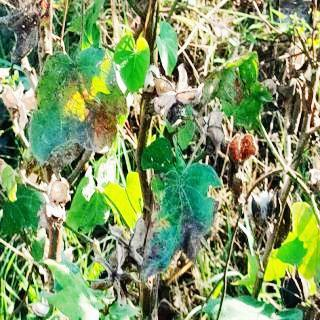blight: (22, 27, 138, 178), (125, 128, 224, 288), (183, 29, 286, 142)
